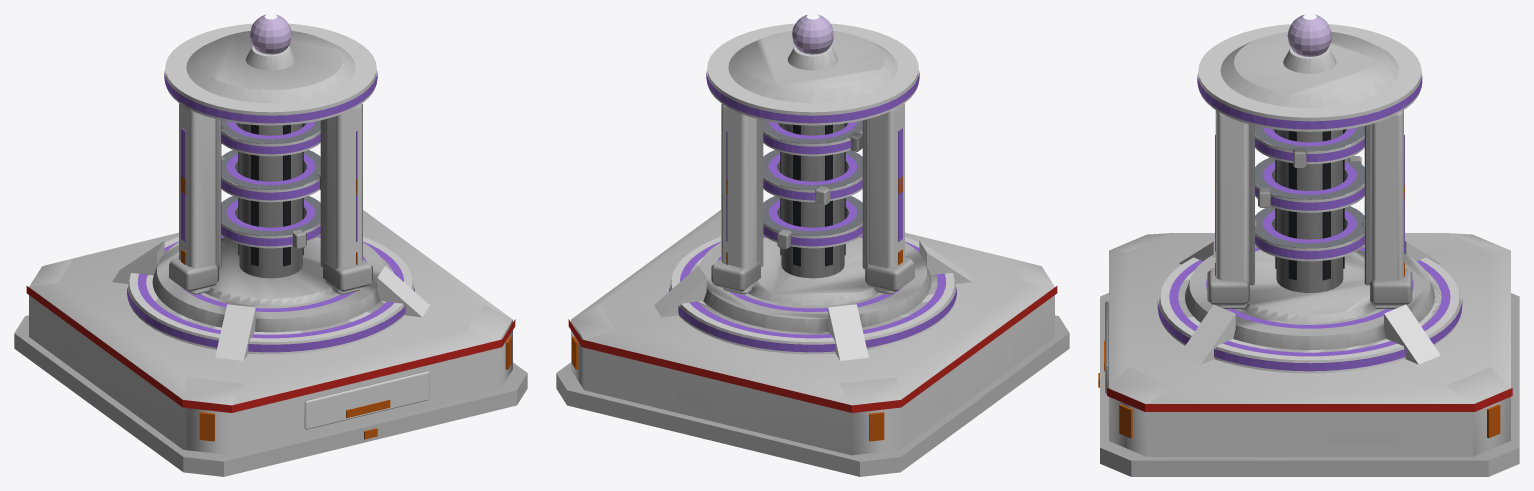
File: chain_0.glb
3 renders of one model, left to right at view 1: azimuth 30°, elevation 25°; view 2: azimuth 150°, elevation 25°; view 3: azimuth 270°, elevation 25°, orthographic. The views are drawn at different scales.
Visible parts, largest first — view 1: Rumpf, Ladung, Spulen, LadungSpulen, Kern; view 2: Rumpf, Ladung, Spulen, LadungSpulen, Kern; view 3: Rumpf, Ladung, Spulen, LadungSpulen, Kern.
Part boxes in pixels (left/top/right/bottom): Rumpf: left=14, top=23, right=527, bottom=476; Ladung: left=127, top=71, right=414, bottom=352; Spulen: left=221, top=120, right=320, bottom=249; LadungSpulen: left=221, top=121, right=320, bottom=246; Kern: left=250, top=14, right=291, bottom=54; Rumpf: left=556, top=23, right=1069, bottom=476; Ladung: left=669, top=71, right=956, bottom=352; Spulen: left=763, top=120, right=862, bottom=249; LadungSpulen: left=763, top=121, right=862, bottom=246; Kern: left=792, top=14, right=833, bottom=54; Rumpf: left=1098, top=24, right=1519, bottom=476; Ladung: left=1157, top=75, right=1462, bottom=371; Spulen: left=1255, top=126, right=1364, bottom=261; LadungSpulen: left=1255, top=127, right=1364, bottom=259; Kern: left=1287, top=14, right=1331, bottom=56.
Size of the model in its own units: 0.94 by 0.92 by 0.944.
